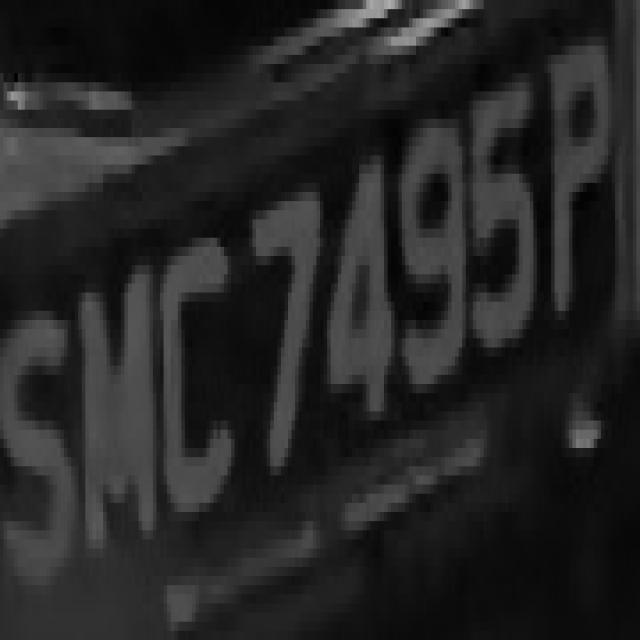4: (324, 110, 398, 475)
5: (473, 46, 540, 420)
7: (249, 155, 323, 503)
9: (395, 82, 480, 402)
C: (156, 192, 249, 530)
M: (78, 238, 164, 558)
P: (540, 28, 618, 329)
S: (18, 256, 82, 622)
